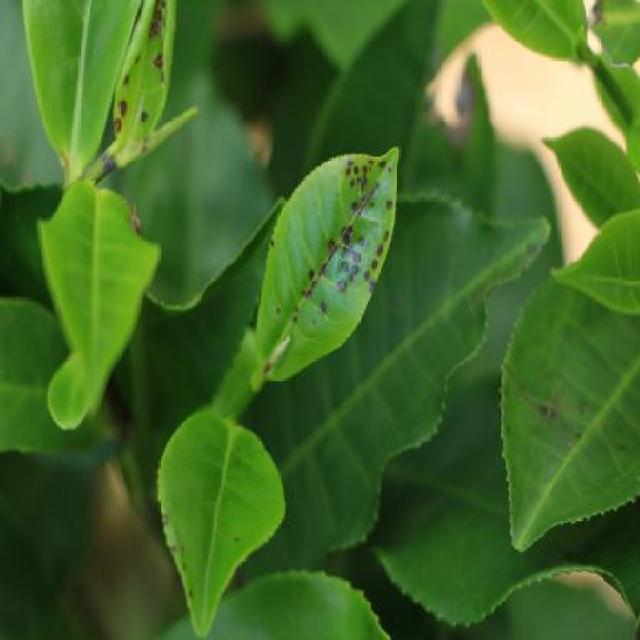Tea Mosquito bug infested leaf: (249, 132, 411, 385), (112, 0, 173, 178)
